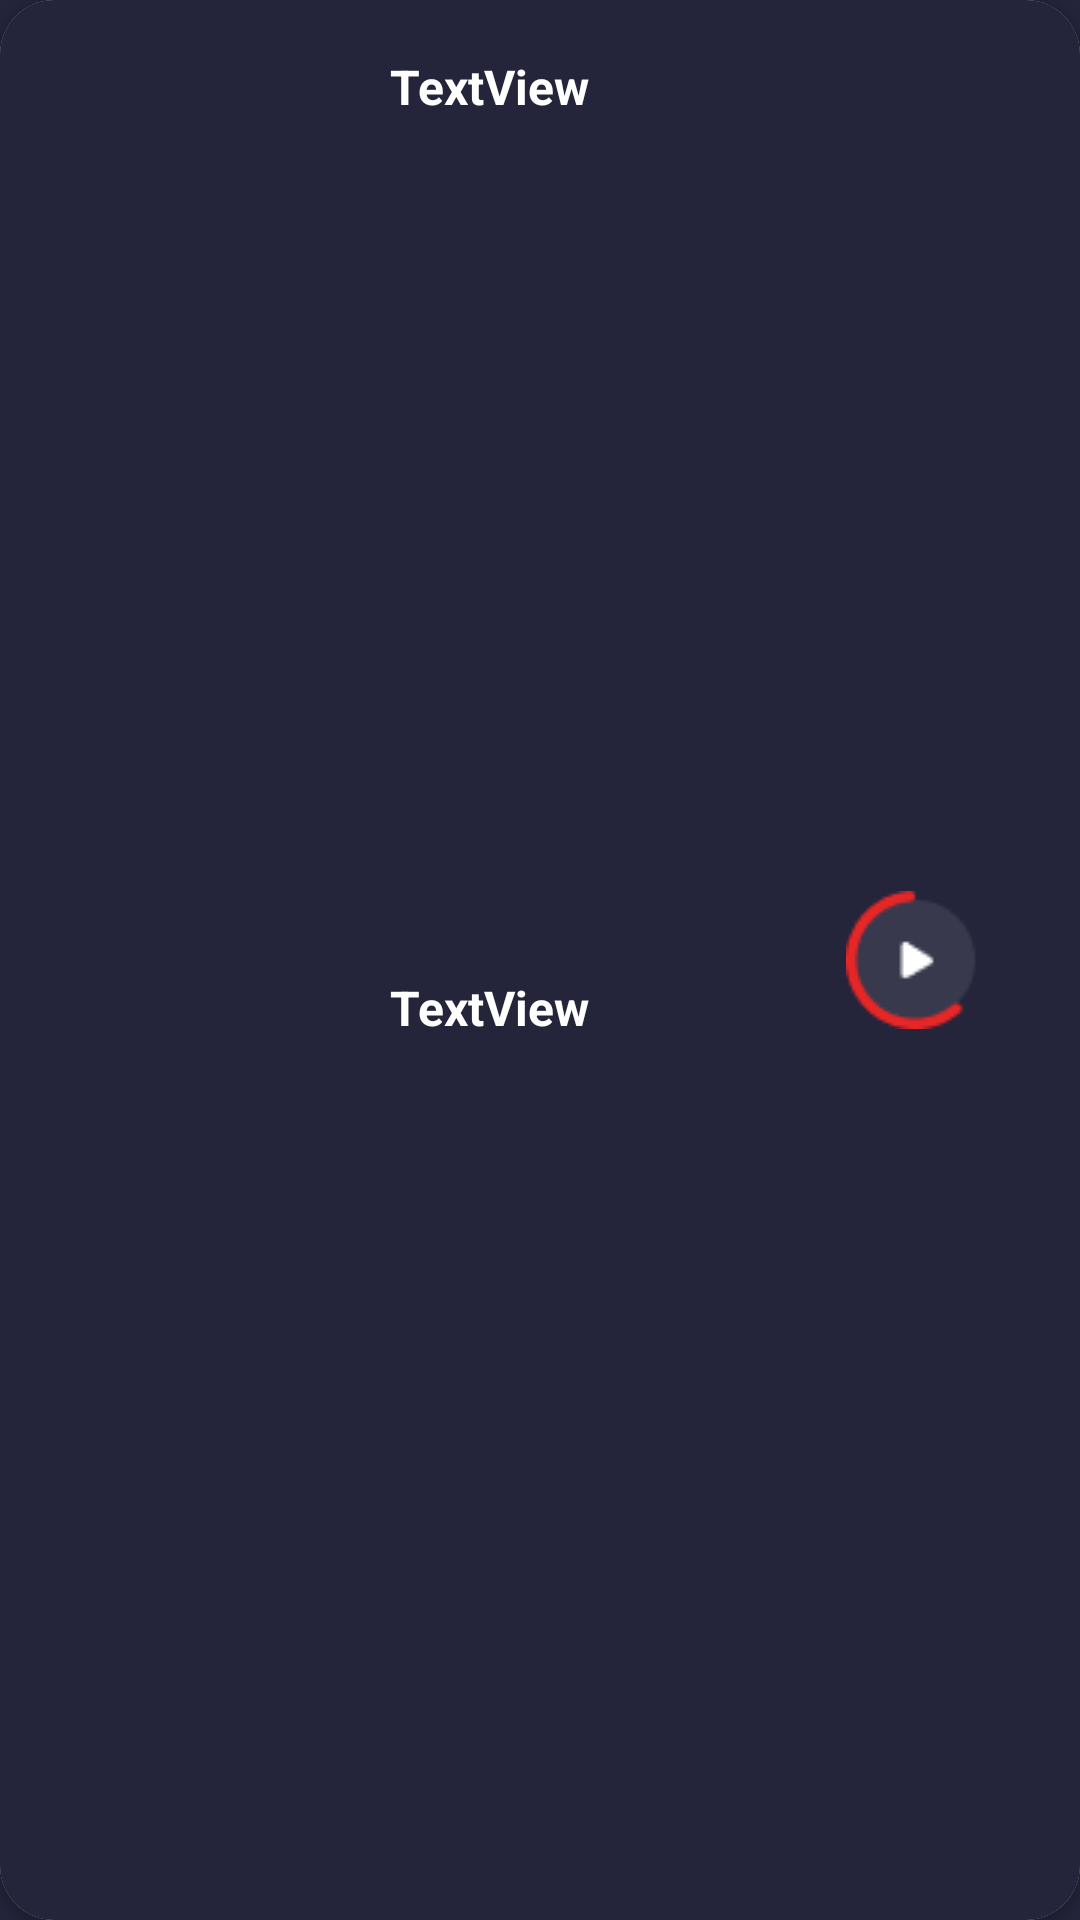

Icon click points for this 1080px x 1920px phone screenshot, format (x=x, y=y):
playingicon: (x=910, y=960)
